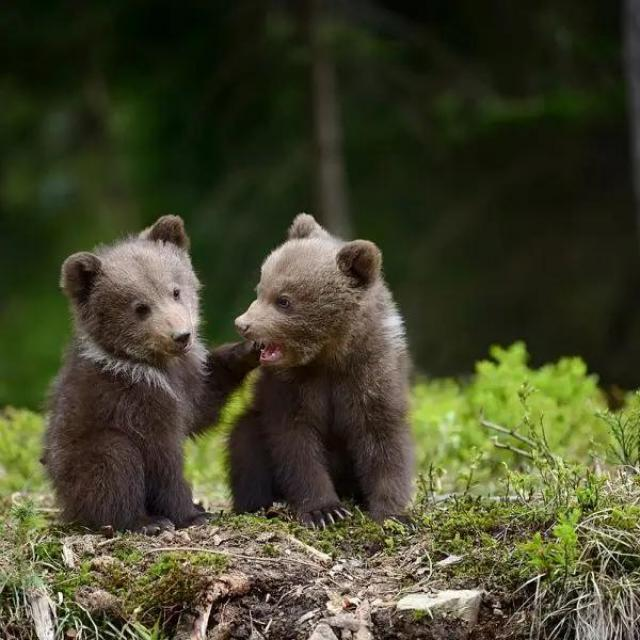Bear: (39, 214, 254, 534), (227, 214, 417, 528)
